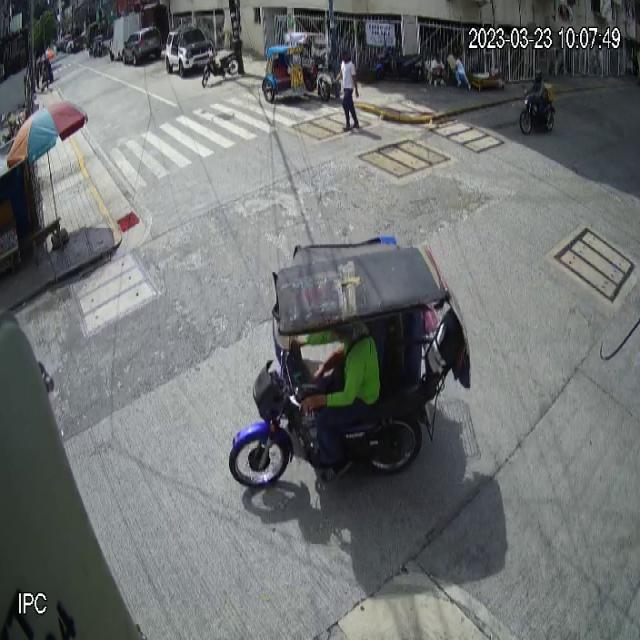Motorcycle: (519, 81, 557, 136)
Tricycle: (228, 236, 473, 490), (261, 32, 331, 103)
